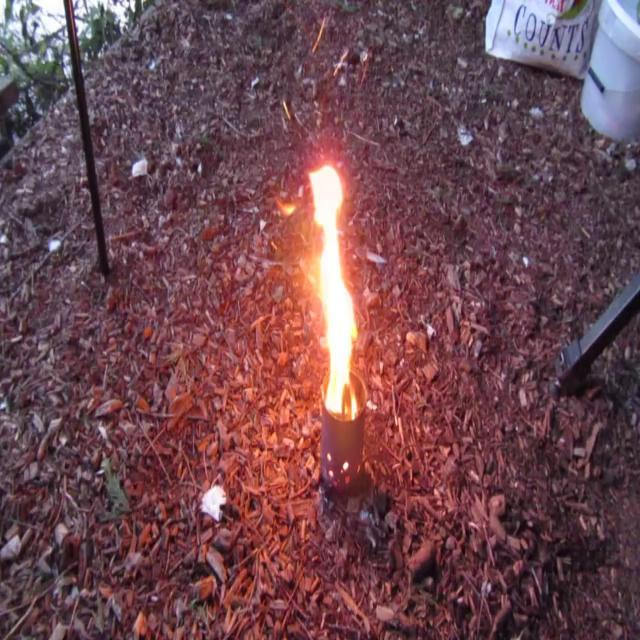Fire: (303, 156, 361, 412)
